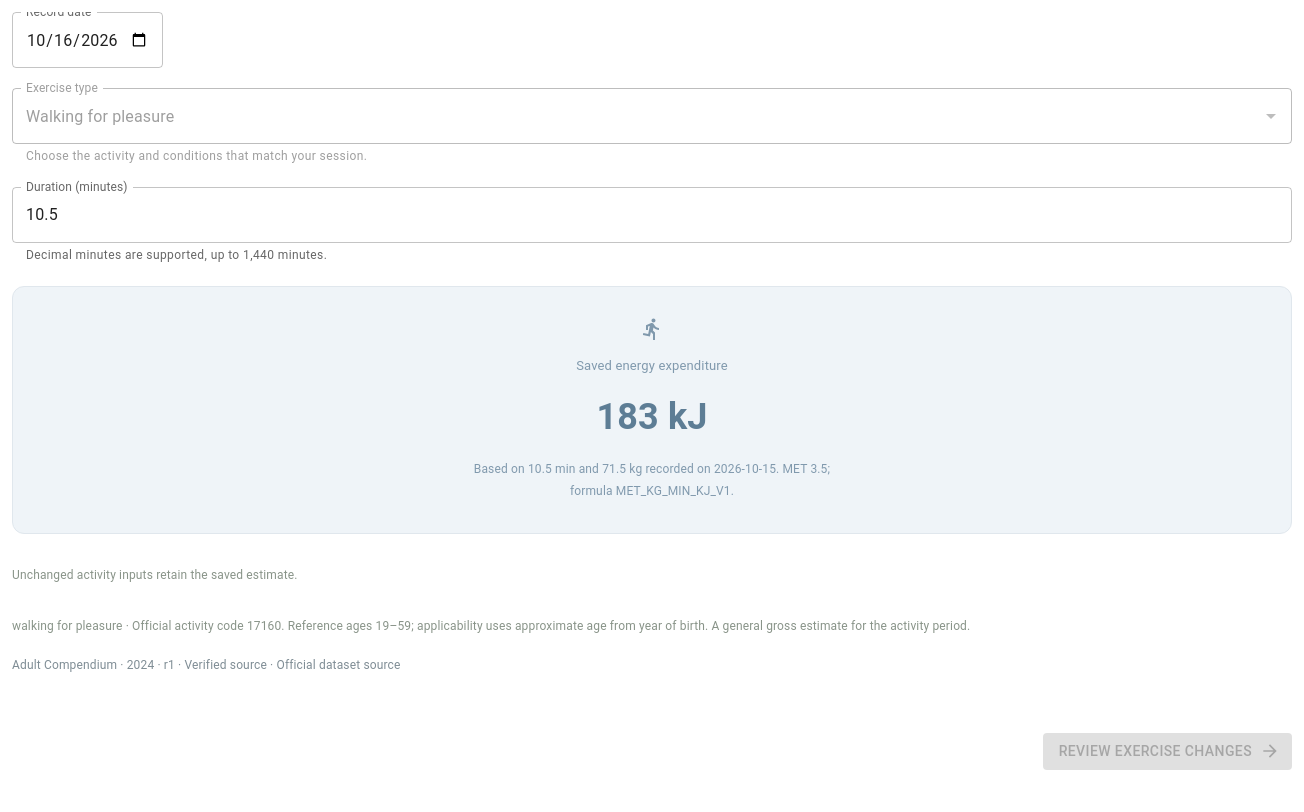
Test: F13 correction editors preserve saved snapshots › keeps original exercise energy despite a newer profile version until its physical inputs change
Expected: the text "Unchanged activity inputs retain the saved estimate." is shown, [12, 568, 298, 582]
Expected: the text "183 kJ" is shown, [596, 390, 708, 444]
Replace the text in the field labelled "Duration (minutes)" with "12.5". click: (652, 215)
box: [12, 187, 1292, 243]
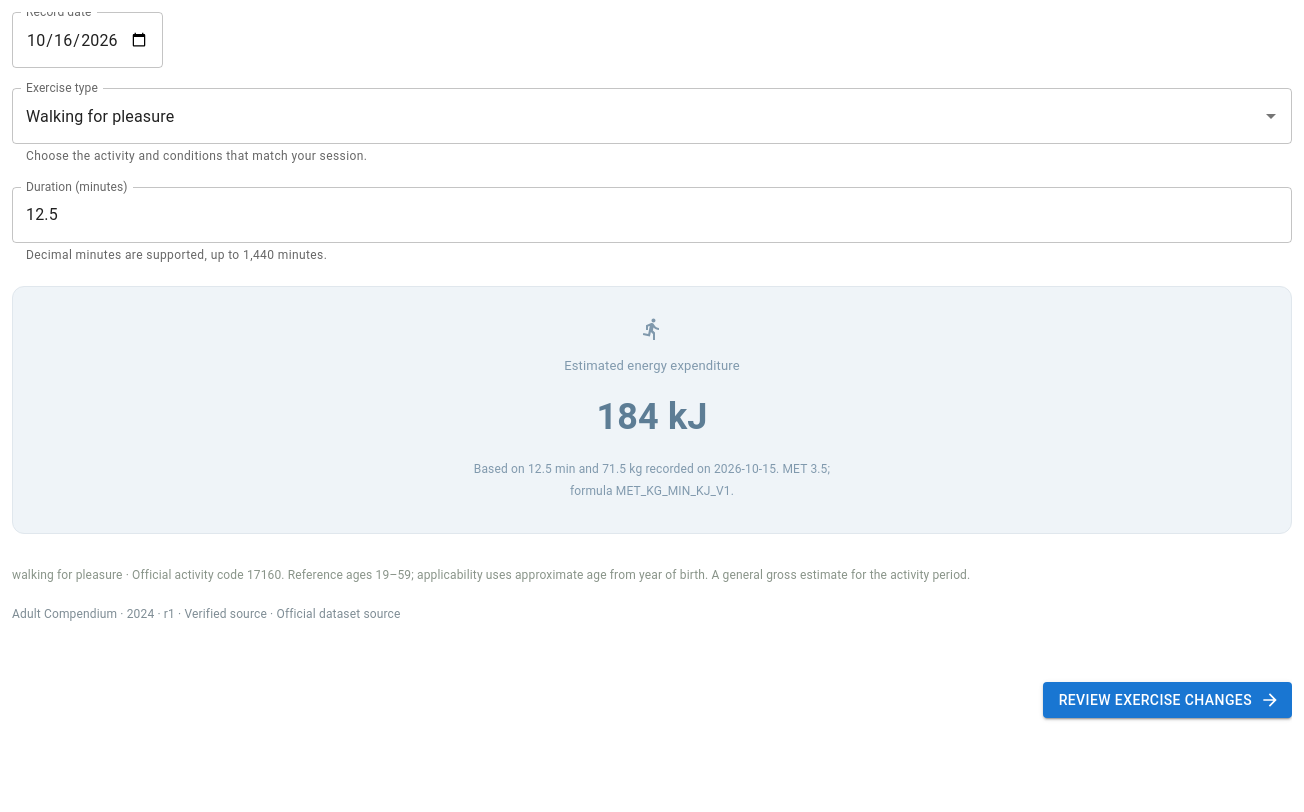
Expected: the button "Review exercise changes" is enabled, [1043, 682, 1292, 718]
